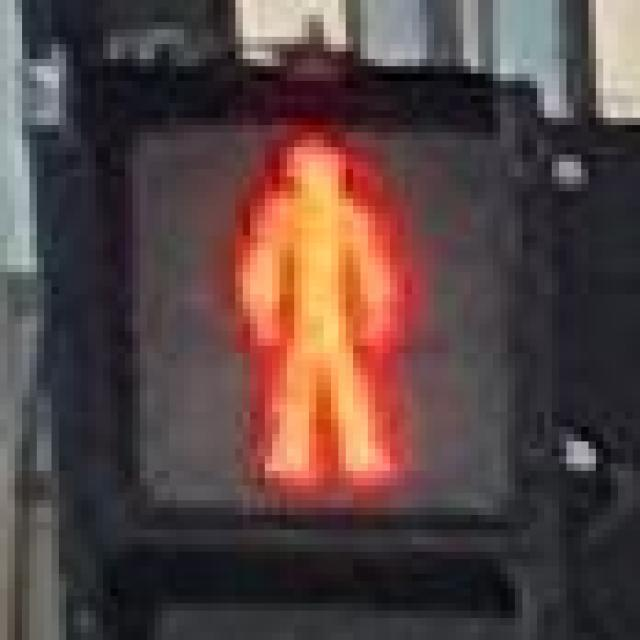red-crossing: (102, 95, 522, 522)
